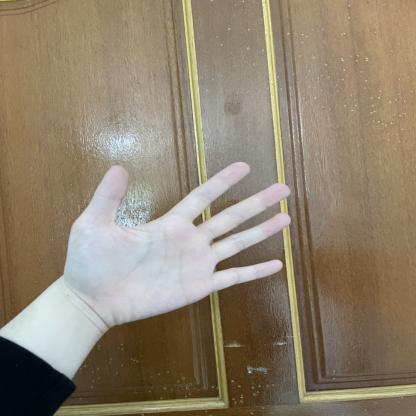bare_hand: (53, 148, 295, 340)
